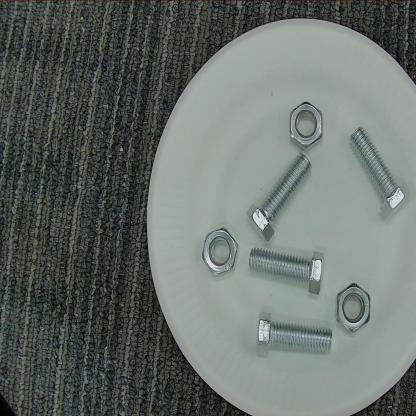FOD: (348, 119, 411, 228), (245, 150, 313, 245), (246, 242, 326, 300), (253, 312, 340, 362), (333, 280, 379, 340), (283, 99, 328, 157), (199, 224, 240, 279)
